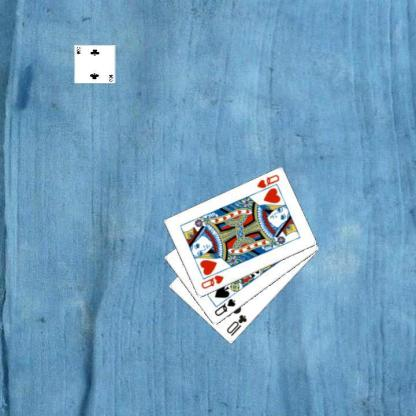10C: (224, 312, 248, 337)
QH: (254, 172, 281, 195), (198, 272, 225, 290)
QS: (212, 296, 237, 318)
